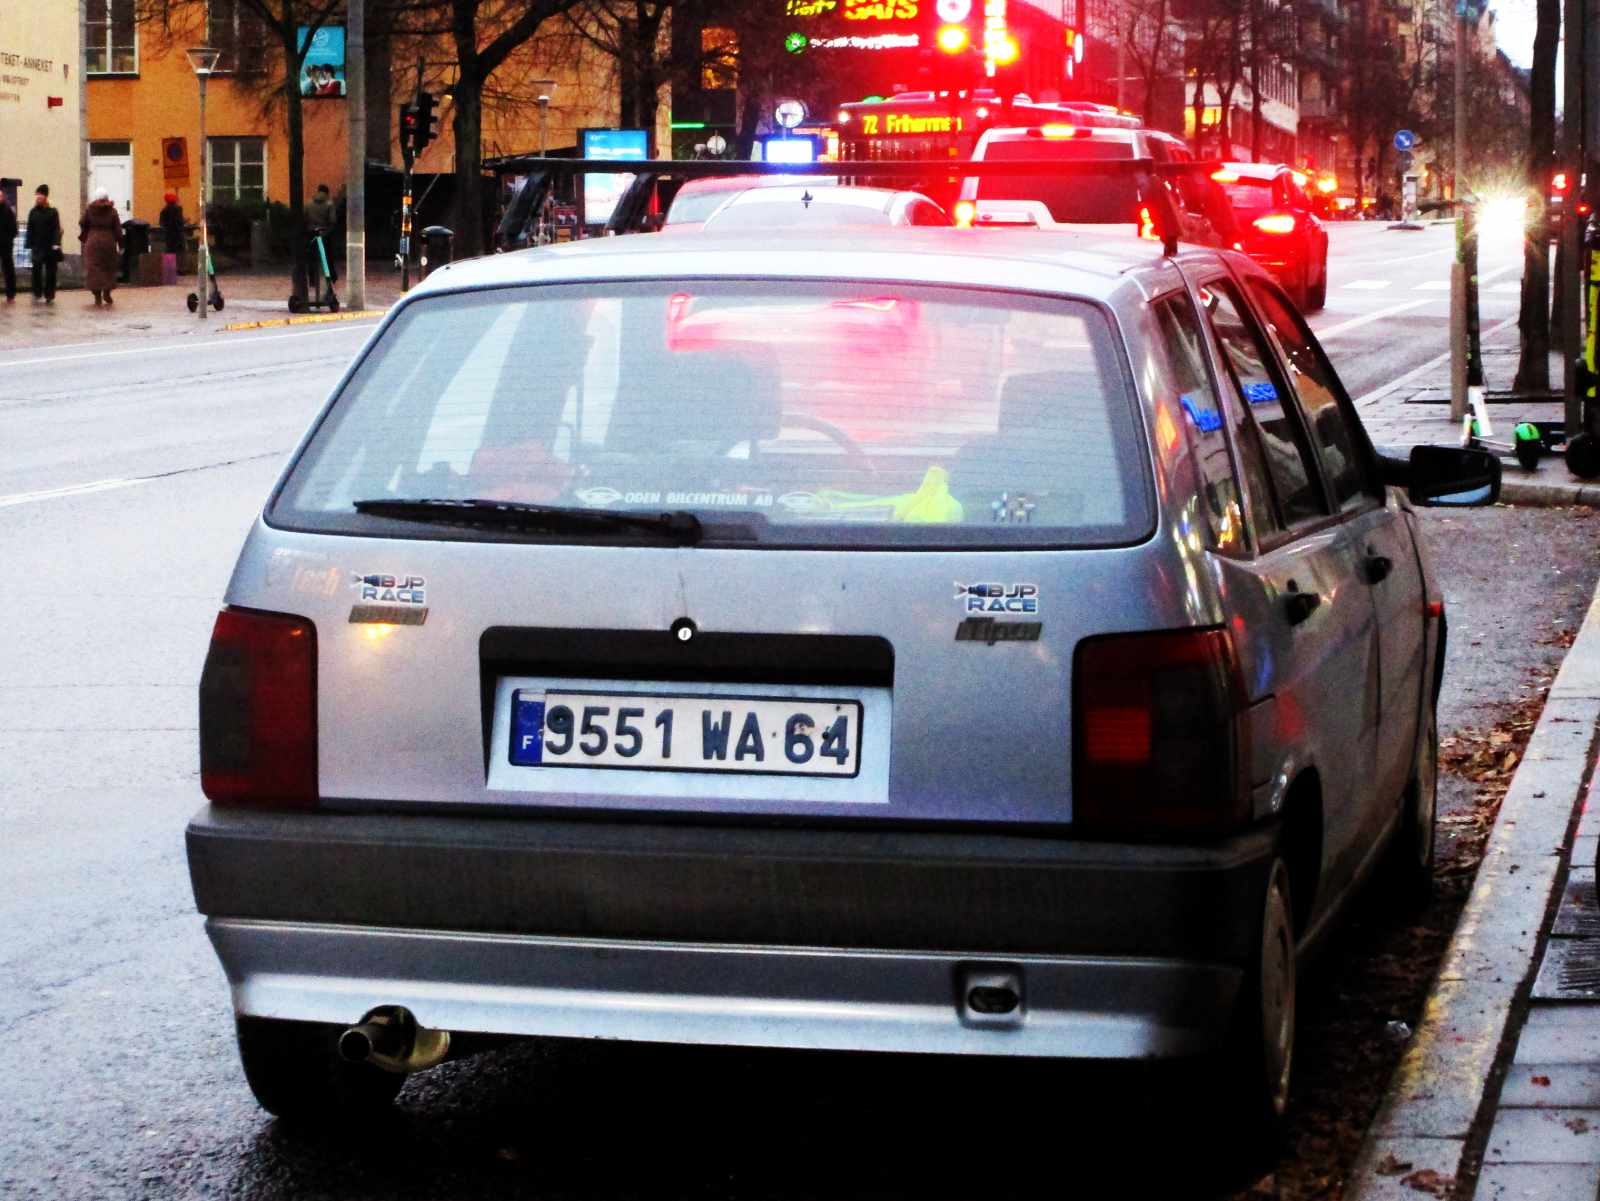licence plate: (509, 683, 868, 782)
